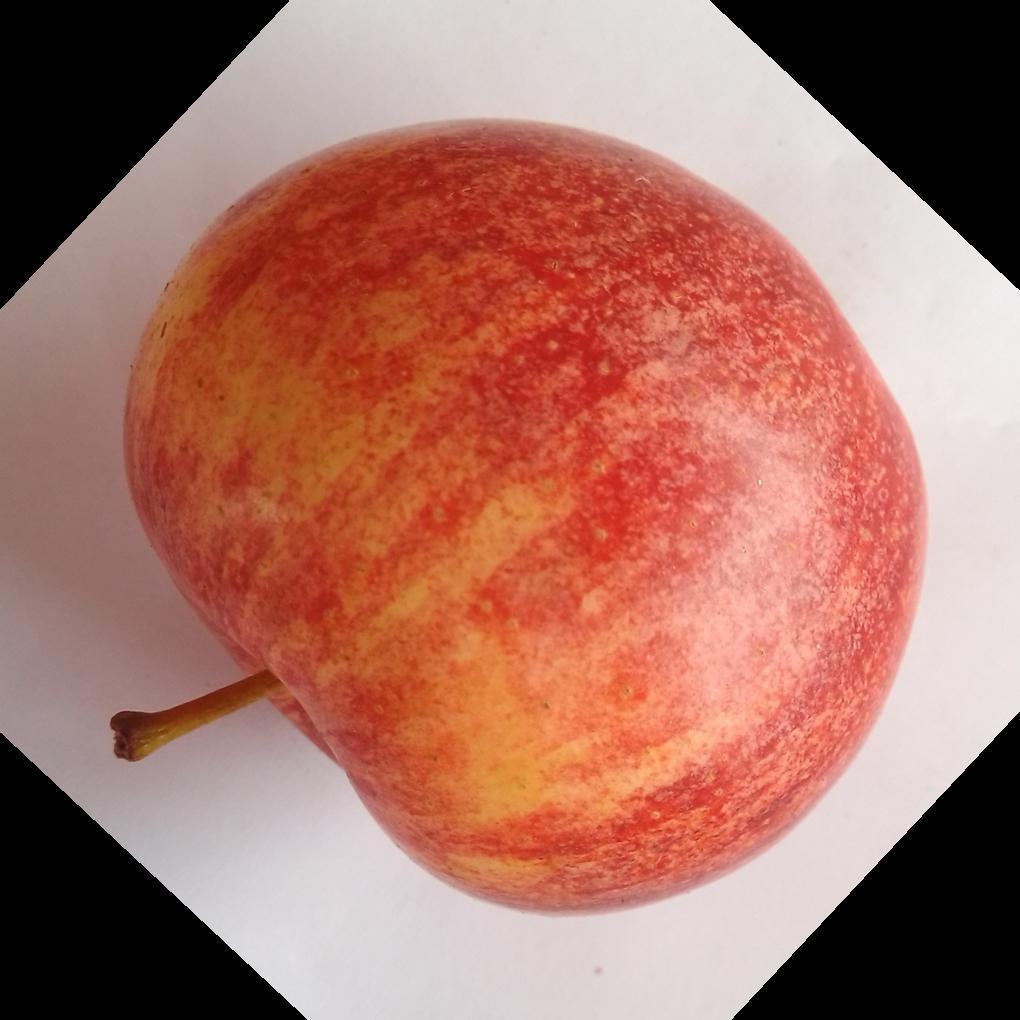FreshGuava: (120, 120, 928, 919)
